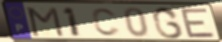0: (122, 7, 152, 39)
1: (62, 6, 84, 38)
C: (90, 7, 123, 38)
E: (178, 7, 217, 39)
G: (150, 6, 185, 40)
M: (26, 6, 66, 38)
